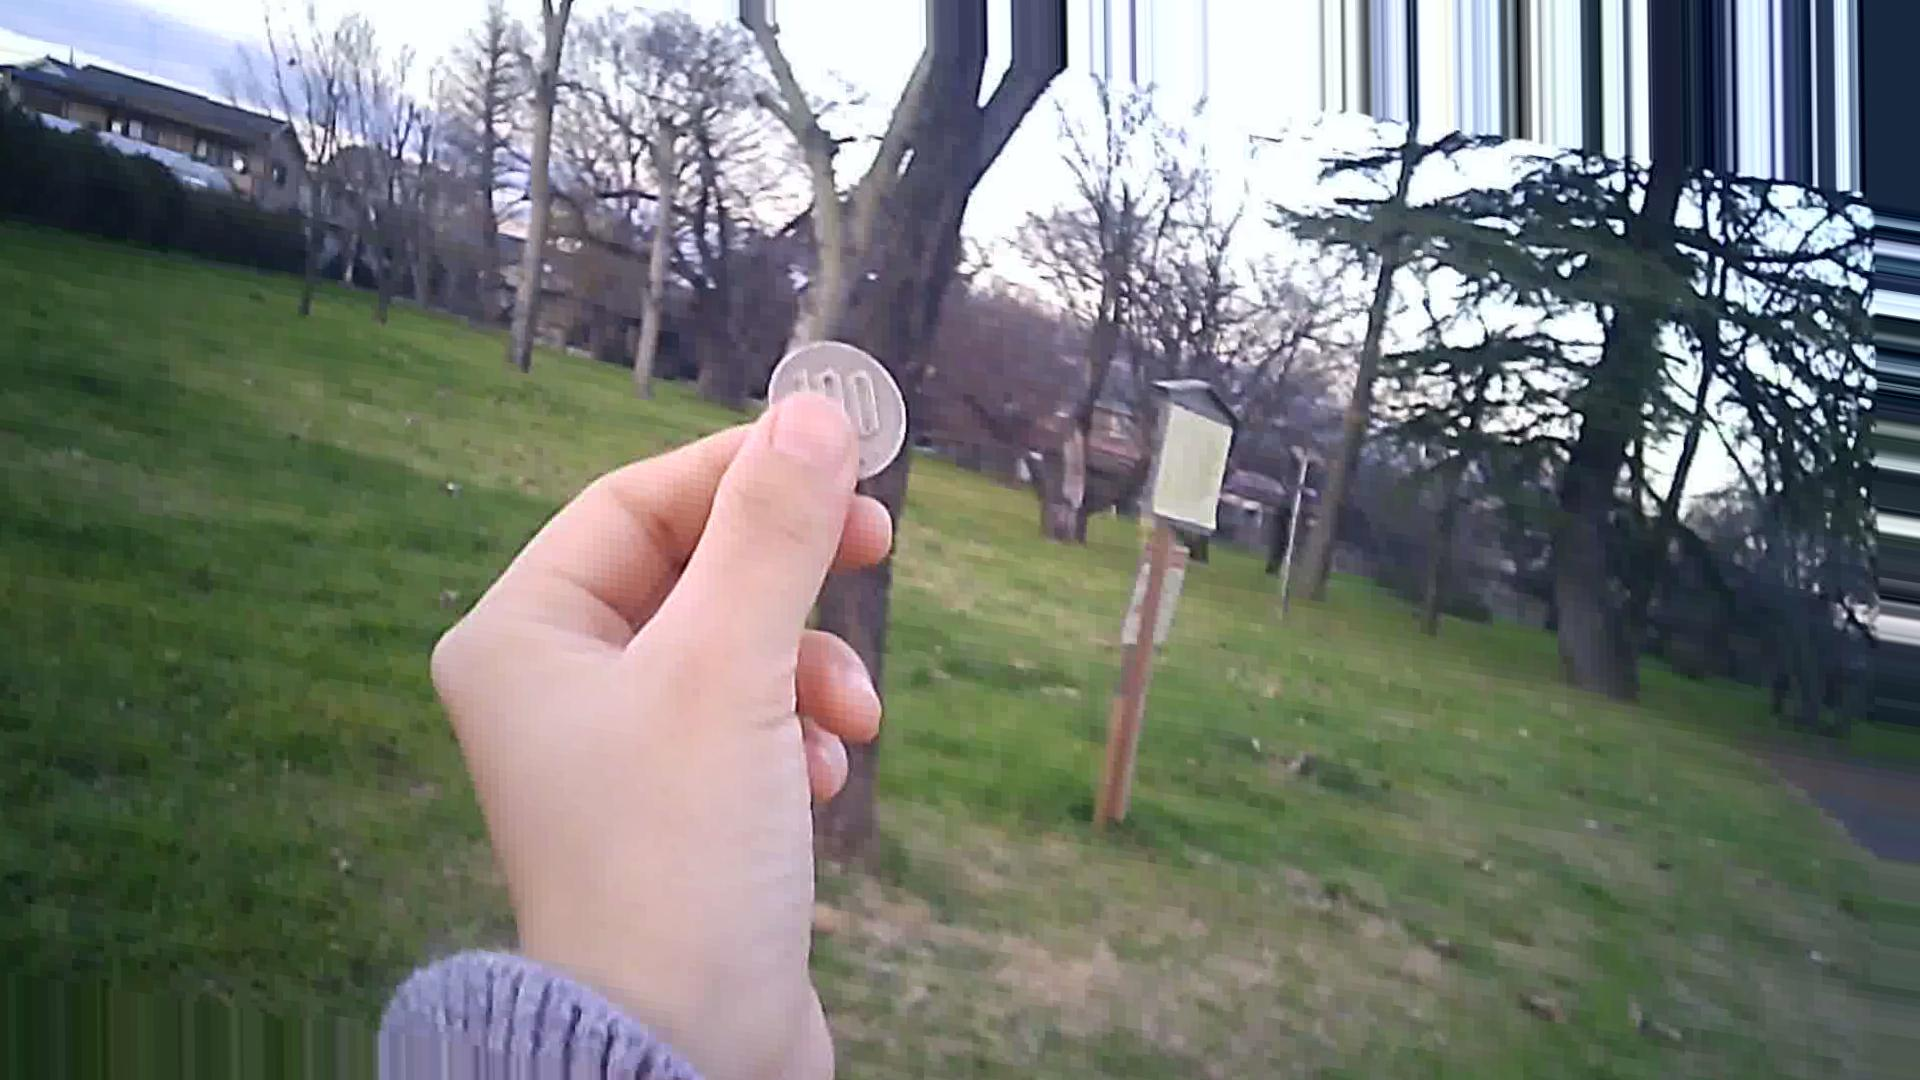100 Yen: (757, 334, 915, 489)
